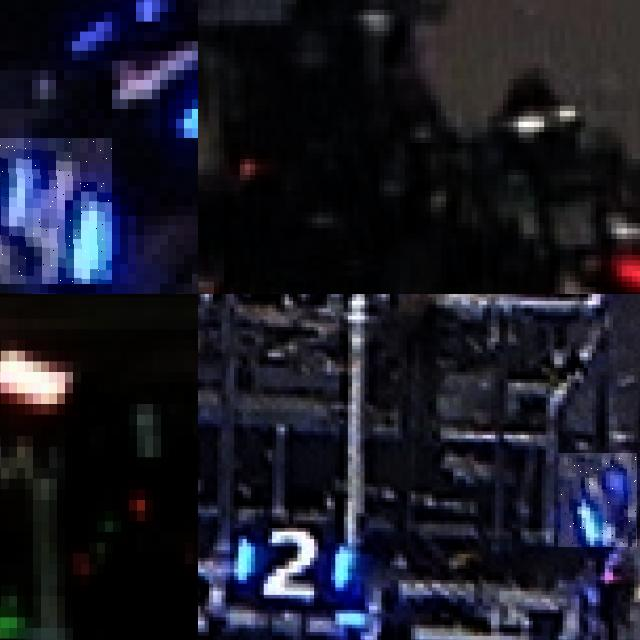B4: (0, 138, 112, 283)
R2: (213, 519, 361, 608), (558, 453, 638, 547)
